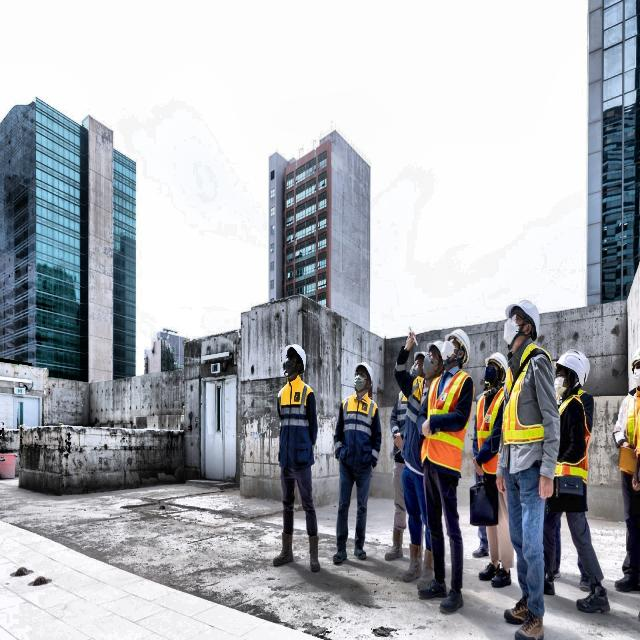safety_helmet: (503, 297, 542, 345), (438, 320, 473, 362), (281, 341, 309, 381), (559, 350, 588, 387), (570, 345, 596, 382), (486, 346, 506, 376), (357, 356, 375, 388), (429, 338, 447, 368), (412, 344, 426, 367)
safety_jacket: (500, 356, 558, 458), (426, 373, 466, 473), (617, 394, 640, 464)
